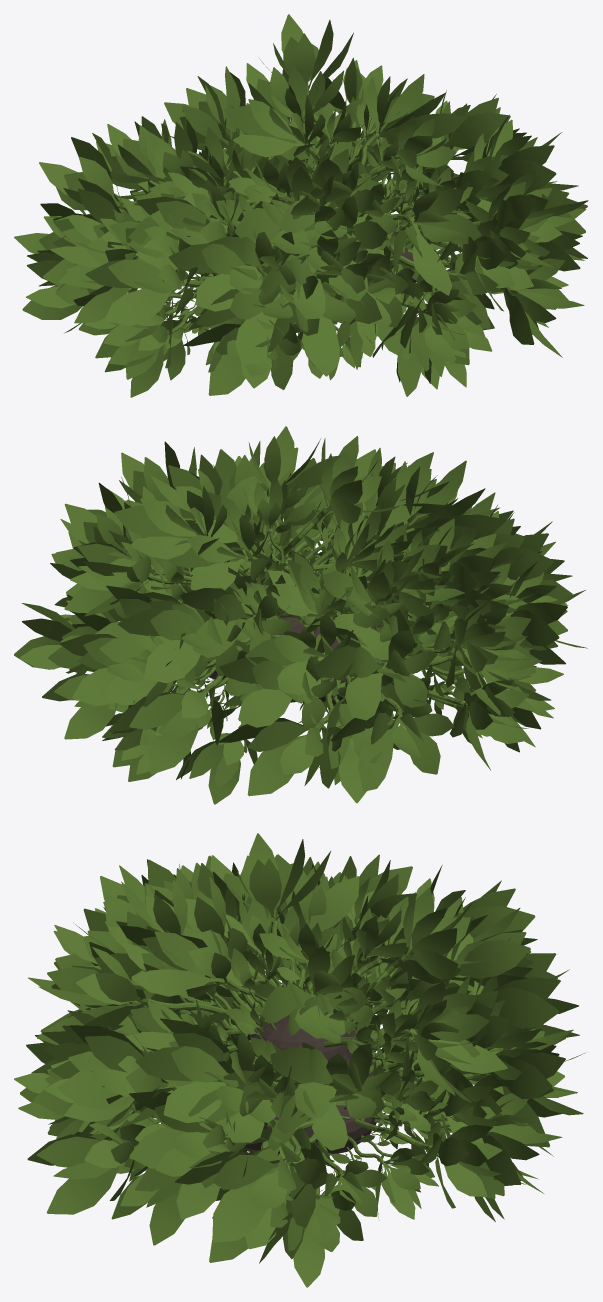
The model's file is Arbusto1.fbx.
3 renders of one model, top to bottom at view 1: azimuth 30°, elevation 25°; view 2: azimuth 150°, elevation 25°; view 3: azimuth 270°, elevation 25°, orthographic. The views are drawn at different scales.
Parts seen in each view (by area): view 1: B2.001|HO1.001|Dupli|158, B2.001|HO1.001|Dupli|5, B2.001|HO1.001|Dupli|48, B2.001|HO1.001|Dupli|78, B2.001|HO1.001|Dupli|147, B2.001|HO1.001|Dupli|47, B2.001|HO1.001|Dupli|157, B2.001|HO1.001|Dupli|54, B2.001|HO1.001|Dupli|113, B2.001|HO1.001|Dupli|75, B2.001|HO1.001|Dupli|49, B2.001|HO1.001|Dupli|90 (+64 smaller); view 2: B2.001|HO1.001|Dupli|18, B2.001|HO1.001|Dupli|25, B2.001|HO1.001|Dupli|13, B2.001|HO1.001|Dupli|31, B2.001|HO1.001|Dupli|249, B2.001|HO1.001|Dupli|24, B2.001|HO1.001|Dupli|138, B2.001|HO1.001|Dupli|143, B2.001|HO1.001|Dupli|149, B2.001|HO1.001|Dupli|75, B2.001|HO1.001|Dupli|147, B2.001|HO1.001|Dupli|230 (+62 smaller); view 3: B2.001|HO1.001|Dupli|100, B2.001|HO1.001|Dupli|113, B2.001|HO1.001|Dupli|90, B2.001|HO1.001|Dupli|158, B2.001|HO1.001|Dupli|98, B2.001|HO1.001|Dupli|96, B2.001|HO1.001|Dupli|146, B2.001|HO1.001|Dupli|151, B2.001|HO1.001|Dupli|157, B2.001|HO1.001|Dupli|138, B2.001|HO1.001|Dupli|202, B2.001|HO1.001|Dupli|147 (+64 smaller).
Part boxes in pixels (left/top/right/bottom): B2.001|HO1.001|Dupli|158: left=359, top=188, right=481, bottom=295; B2.001|HO1.001|Dupli|5: left=85, top=246, right=211, bottom=325; B2.001|HO1.001|Dupli|48: left=196, top=264, right=319, bottom=365; B2.001|HO1.001|Dupli|78: left=268, top=263, right=381, bottom=376; B2.001|HO1.001|Dupli|147: left=224, top=95, right=325, bottom=164; B2.001|HO1.001|Dupli|47: left=168, top=232, right=288, bottom=311; B2.001|HO1.001|Dupli|157: left=361, top=74, right=466, bottom=170; B2.001|HO1.001|Dupli|54: left=183, top=320, right=300, bottom=395; B2.001|HO1.001|Dupli|113: left=447, top=258, right=584, bottom=357; B2.001|HO1.001|Dupli|75: left=235, top=166, right=345, bottom=254; B2.001|HO1.001|Dupli|49: left=260, top=229, right=365, bottom=319; B2.001|HO1.001|Dupli|90: left=395, top=114, right=578, bottom=226; B2.001|HO1.001|Dupli|18: left=314, top=627, right=437, bottom=720; B2.001|HO1.001|Dupli|25: left=218, top=676, right=354, bottom=796; B2.001|HO1.001|Dupli|13: left=330, top=673, right=454, bottom=791; B2.001|HO1.001|Dupli|31: left=109, top=642, right=250, bottom=774; B2.001|HO1.001|Dupli|249: left=118, top=585, right=254, bottom=683; B2.001|HO1.001|Dupli|24: left=219, top=656, right=338, bottom=727; B2.001|HO1.001|Dupli|138: left=114, top=485, right=256, bottom=583; B2.001|HO1.001|Dupli|143: left=180, top=567, right=291, bottom=657; B2.001|HO1.001|Dupli|149: left=167, top=514, right=286, bottom=590; B2.001|HO1.001|Dupli|75: left=351, top=460, right=506, bottom=579; B2.001|HO1.001|Dupli|147: left=272, top=451, right=399, bottom=563; B2.001|HO1.001|Dupli|230: left=392, top=677, right=529, bottom=770; B2.001|HO1.001|Dupli|100: left=175, top=1118, right=320, bottom=1242; B2.001|HO1.001|Dupli|113: left=27, top=1107, right=155, bottom=1214; B2.001|HO1.001|Dupli|90: left=135, top=1033, right=276, bottom=1123; B2.001|HO1.001|Dupli|158: left=37, top=947, right=266, bottom=1044; B2.001|HO1.001|Dupli|98: left=57, top=1025, right=179, bottom=1126; B2.001|HO1.001|Dupli|96: left=270, top=1042, right=391, bottom=1119; B2.001|HO1.001|Dupli|146: left=131, top=929, right=289, bottom=1017; B2.001|HO1.001|Dupli|151: left=323, top=982, right=507, bottom=1102; B2.001|HO1.001|Dupli|157: left=253, top=946, right=367, bottom=1038; B2.001|HO1.001|Dupli|138: left=358, top=887, right=497, bottom=1004; B2.001|HO1.001|Dupli|202: left=354, top=1107, right=502, bottom=1208; B2.001|HO1.001|Dupli|147: left=223, top=833, right=333, bottom=1018.
Size of the model in its own units: 715 by 367 by 603.
